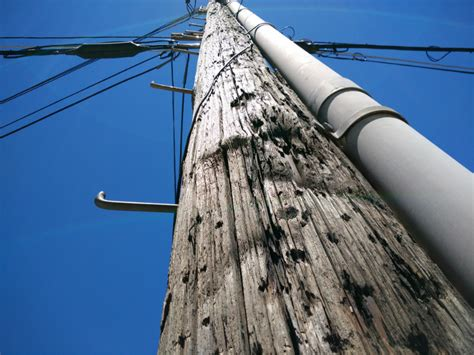pole: (114, 2, 474, 355)
